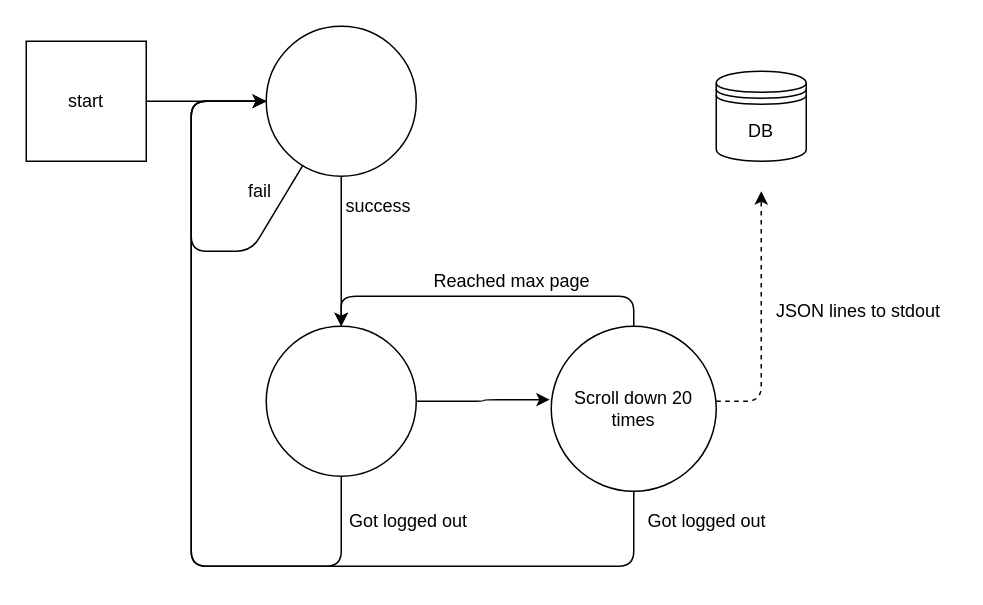
The diagram is 983 pixels wide and 605 high, and some of its shapes have lost their labels. Here are the shapes that lost their labels. From the top down, the centre of each, then its label:
point 340,100: Perform login
point 340,400: Go to transactions page
